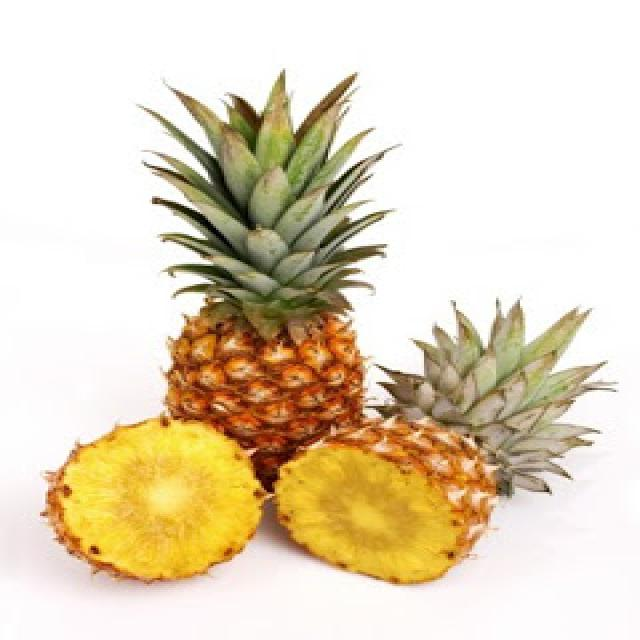pineapple: (280, 382, 550, 587), (155, 247, 368, 458), (16, 413, 269, 585)
